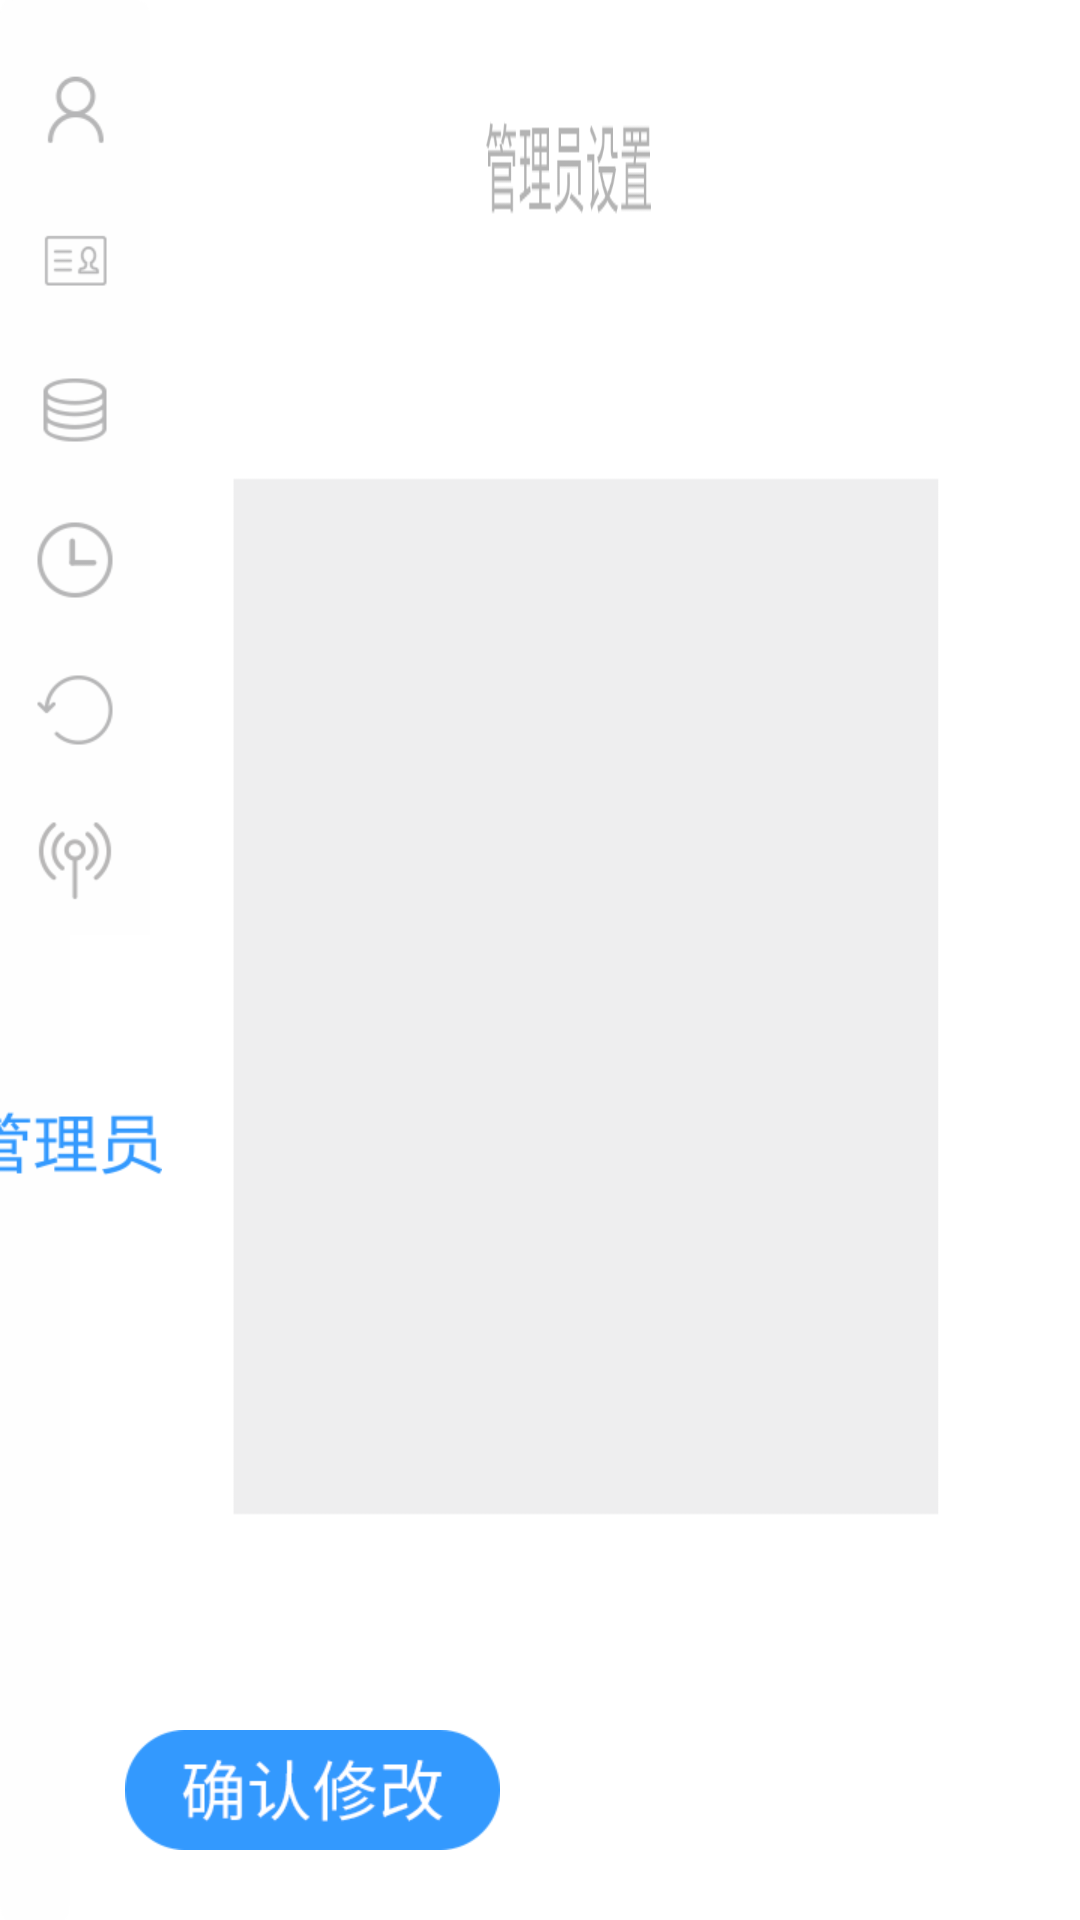

Where icons sit on this 1080px×1920px app screen, as (x1, y1, x2, y2):
settings tab id: (45, 236, 107, 286)
settings tab reset: (37, 675, 113, 745)
settings tab stock: (43, 378, 107, 442)
settings tab sync: (39, 822, 111, 899)
settings tab time: (37, 522, 113, 598)
